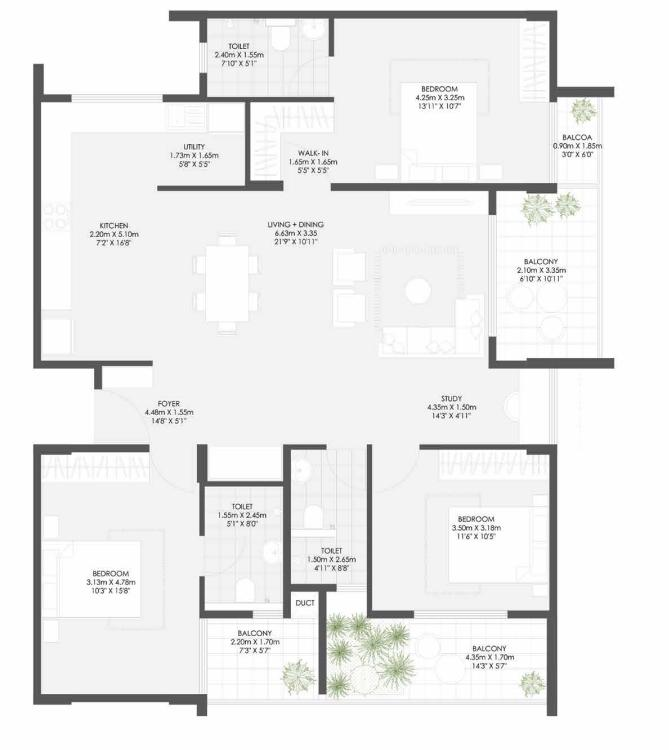Balcony: (493, 192, 603, 364), (332, 613, 544, 701), (203, 619, 321, 699)
Bed: (401, 85, 480, 180), (448, 507, 548, 582), (42, 540, 138, 614)
Bedroom: (39, 448, 202, 694), (330, 13, 553, 188), (370, 449, 554, 616)
Dining Room: (164, 191, 287, 361)
Dining table: (182, 235, 269, 338)
Foyer: (100, 369, 364, 444)
Kitchen: (39, 96, 160, 363)
Living Room: (284, 189, 491, 366)
Sofa: (382, 328, 483, 356), (330, 251, 367, 324), (455, 297, 484, 349)
Wardrobe: (41, 452, 150, 486), (436, 453, 549, 480), (518, 16, 548, 100), (251, 100, 332, 131), (252, 106, 282, 177)
balcoa: (556, 96, 604, 189)
commode: (271, 26, 290, 51), (303, 505, 322, 528), (236, 579, 255, 601)
door: (96, 393, 154, 441), (152, 446, 203, 499), (202, 526, 247, 576), (372, 447, 418, 495), (285, 141, 327, 186), (323, 446, 364, 492), (291, 55, 329, 97)
duct: (290, 586, 319, 619)
fridge: (39, 318, 74, 353)
kitchen-slab: (35, 97, 71, 310), (37, 100, 204, 132)
sink: (166, 104, 205, 130), (292, 458, 312, 482), (262, 539, 281, 563), (302, 21, 325, 40)
stove: (42, 202, 70, 231)
study: (364, 366, 556, 447)
toilet: (201, 483, 289, 616), (291, 444, 369, 587), (203, 17, 331, 100)
tv: (392, 192, 487, 216)
utility: (159, 99, 250, 186)
walkin: (252, 100, 329, 188)
washing-machine: (208, 99, 247, 134)
